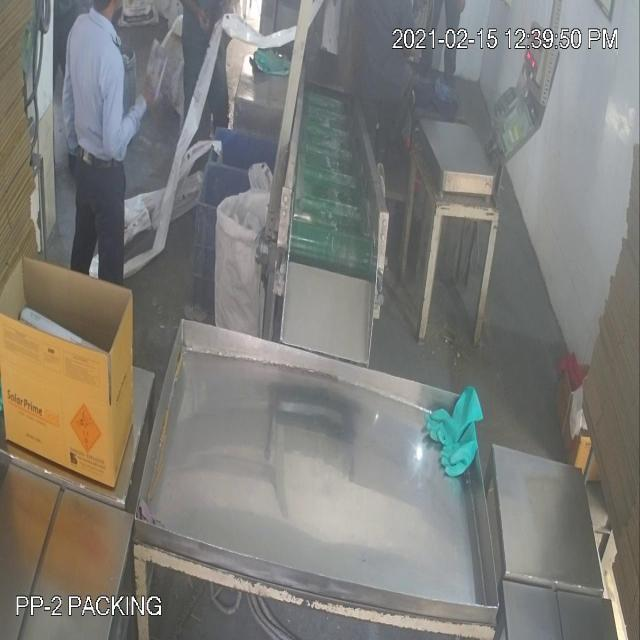gloves: (424, 388, 484, 482)
no-gloves: (100, 58, 155, 170)
